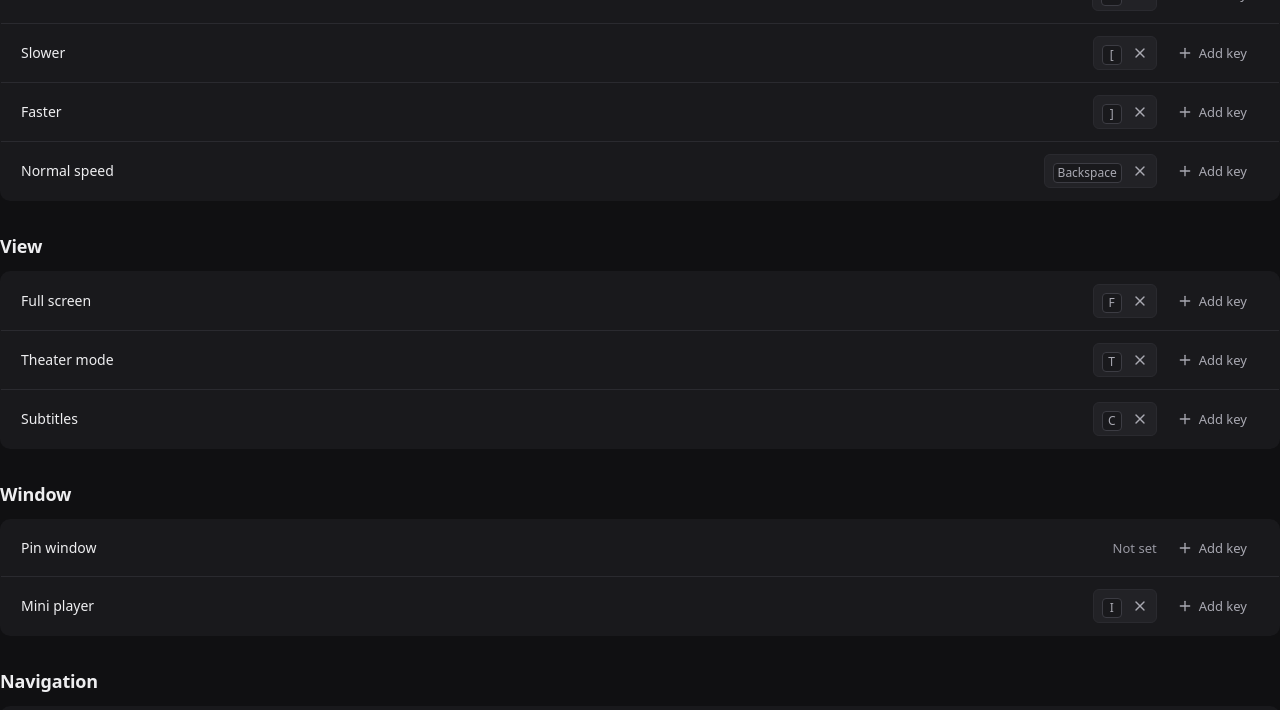
Scenario: ShortcutsSettings › cancels recording with Escape and refuses reserved keys
The width and height of the screenshot is (1280, 710).
(page scrolled)
Step 1. Click the button with aria-label "Add a key for Theater mode" → (1212, 360), box [1165,344,1259,376]
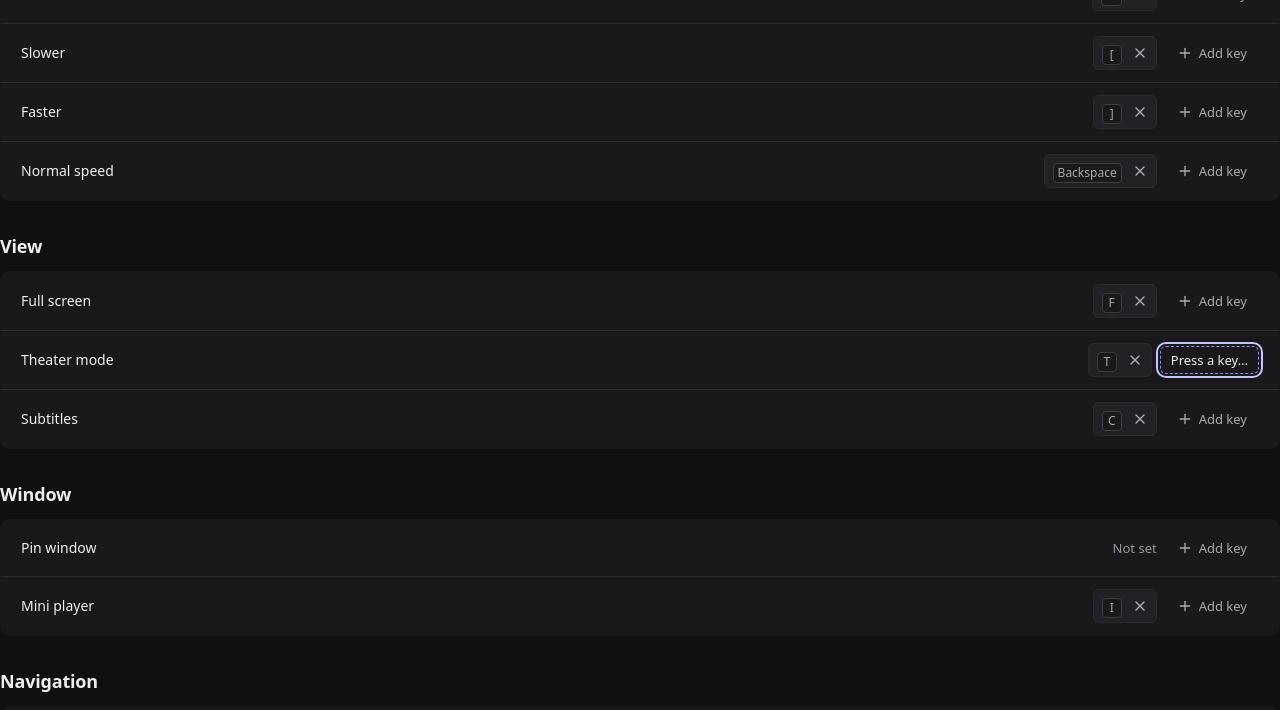
Step 2. Press Escape
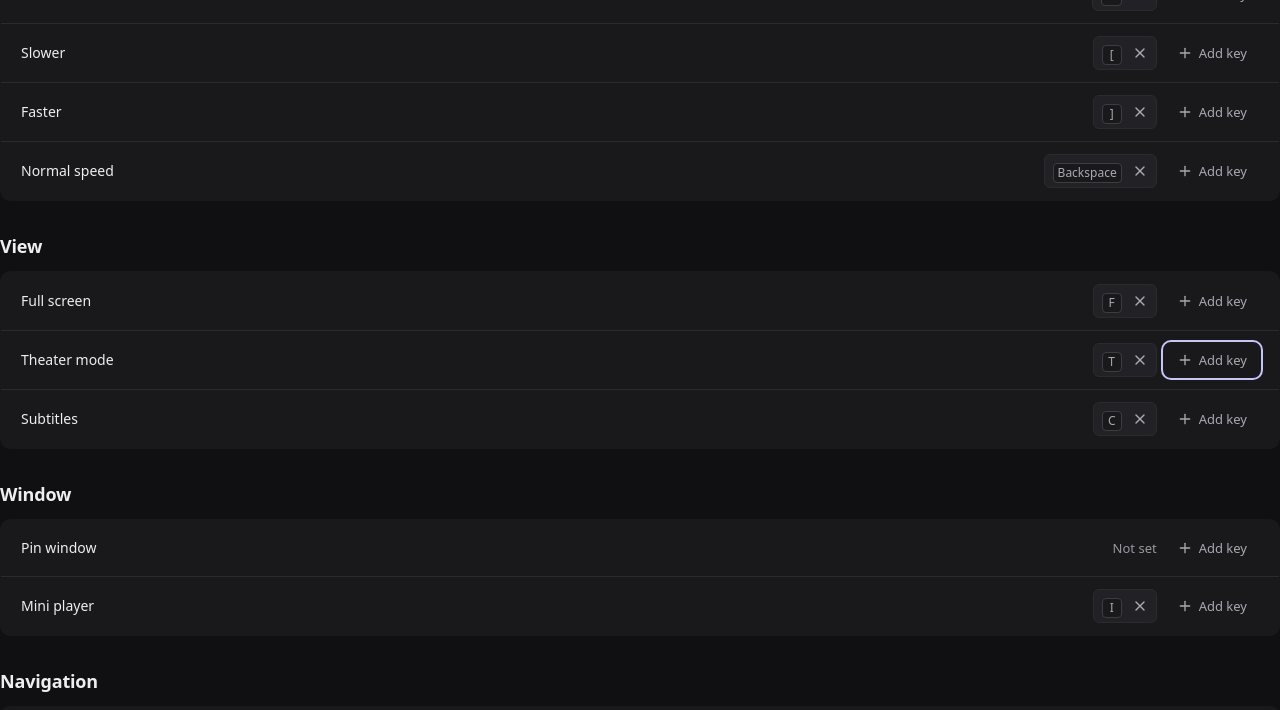
Step 3. Click the button with aria-label "Add a key for Theater mode" → (1212, 360), box [1165,344,1259,376]
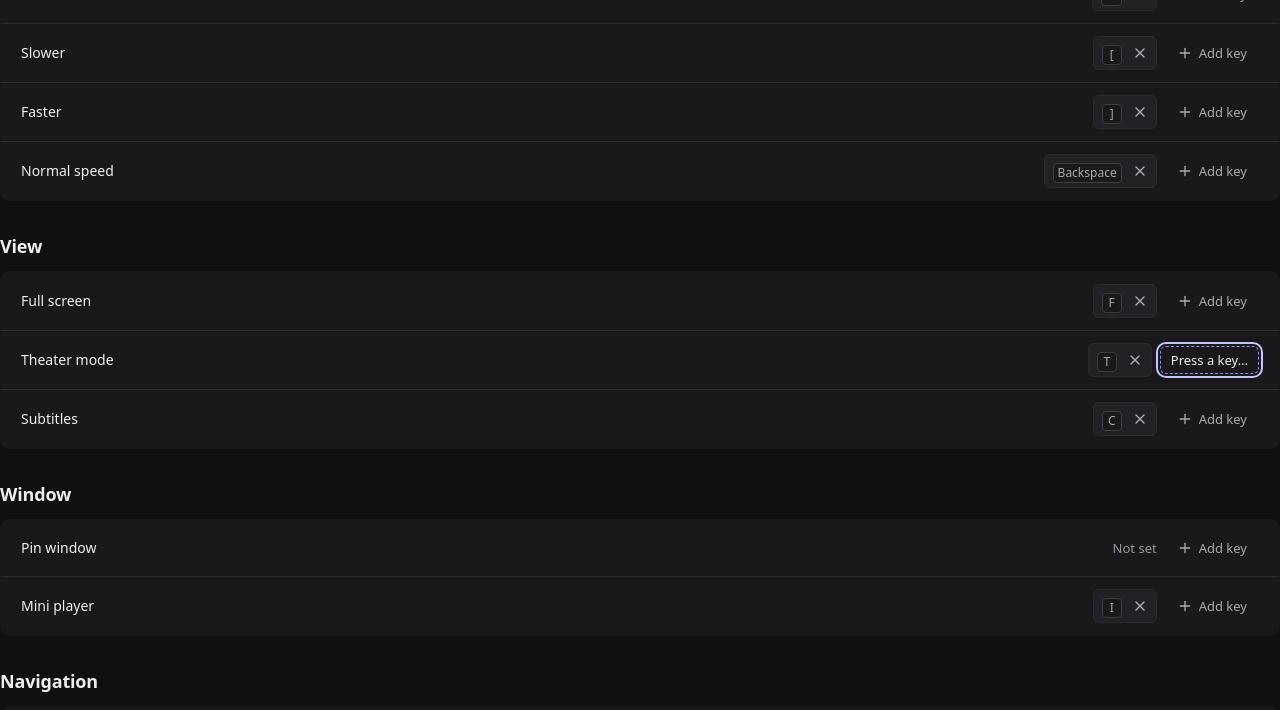
Step 4. Type keys "?"
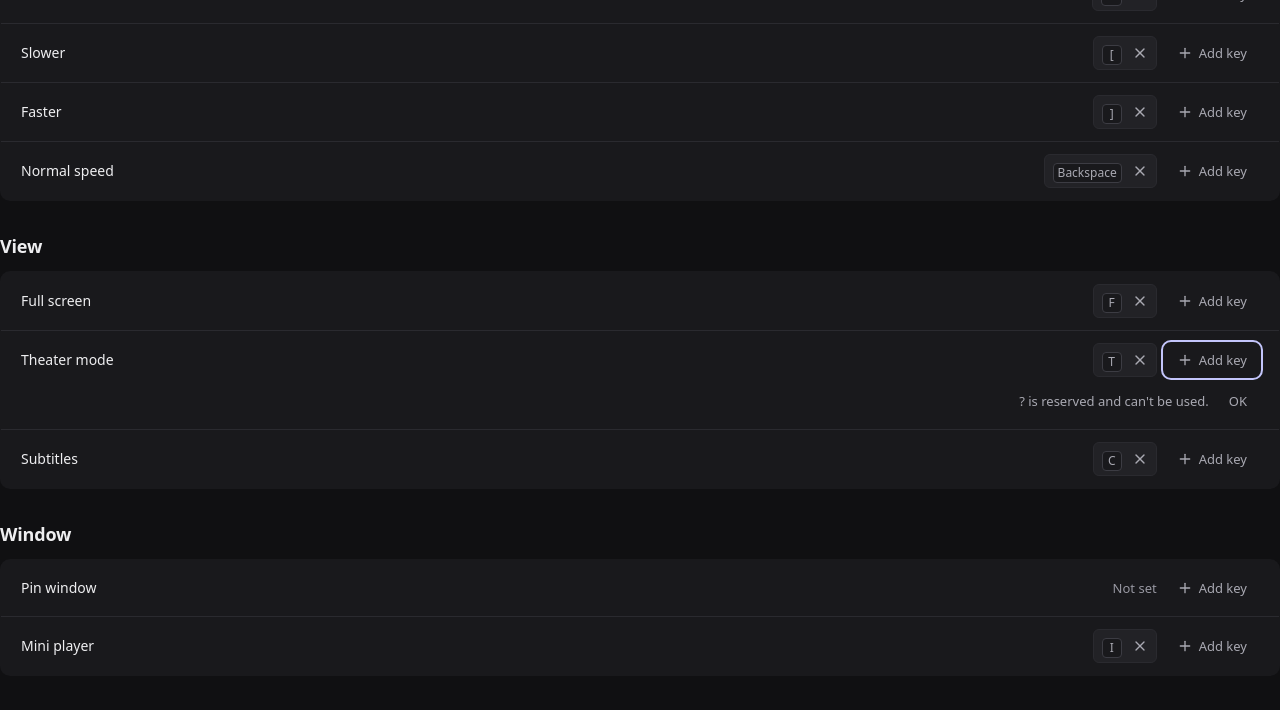
Expected: the message shows "? is reserved and can't be used.", [1019,385,1259,417]
Step 5. Click the button "OK" → (1238, 401), box [1217,385,1259,417]
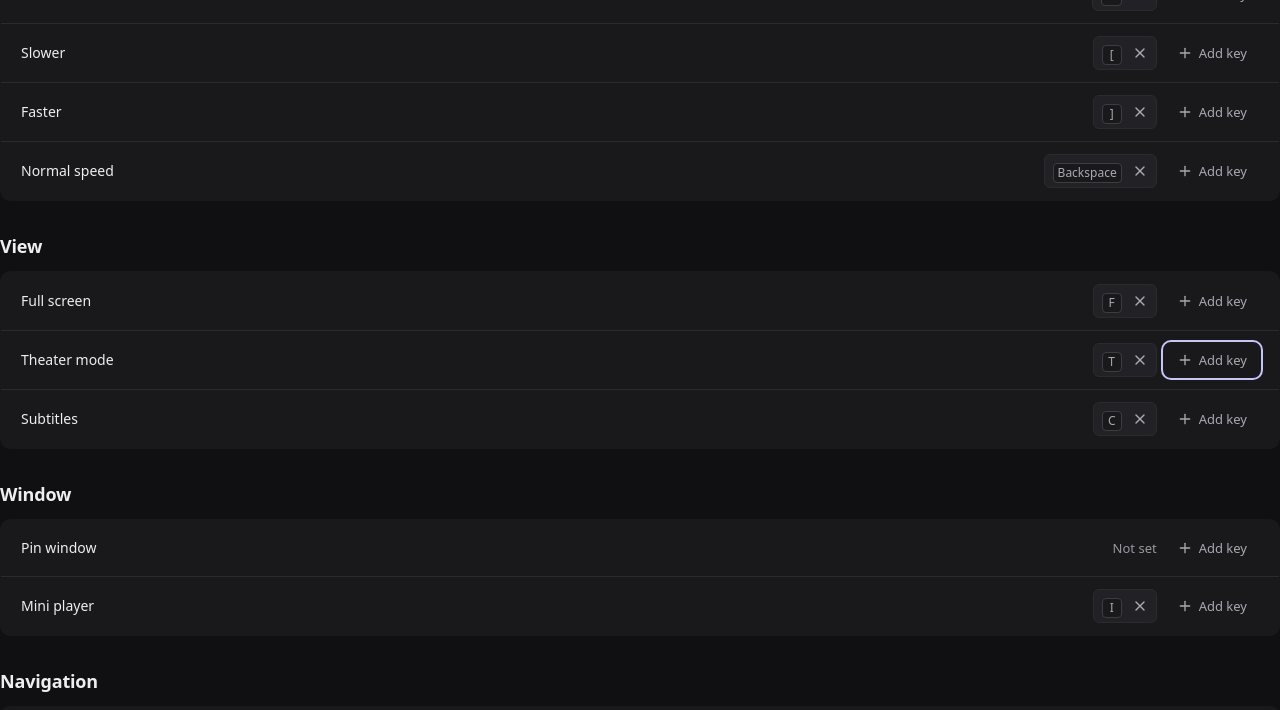
Expected: the message "? is reserved and can't be used. OK" is gone
